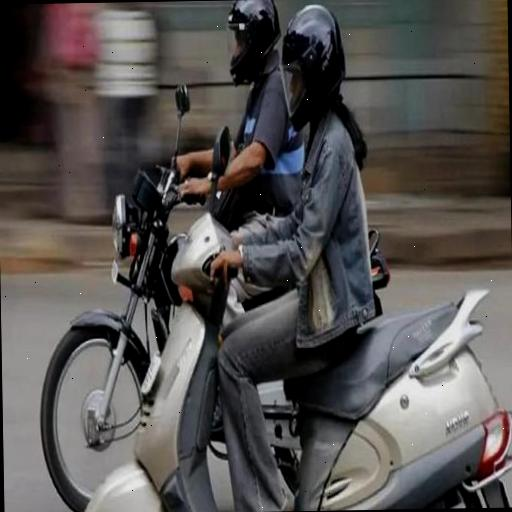helmet: (278, 2, 402, 511), (92, 0, 285, 265)
